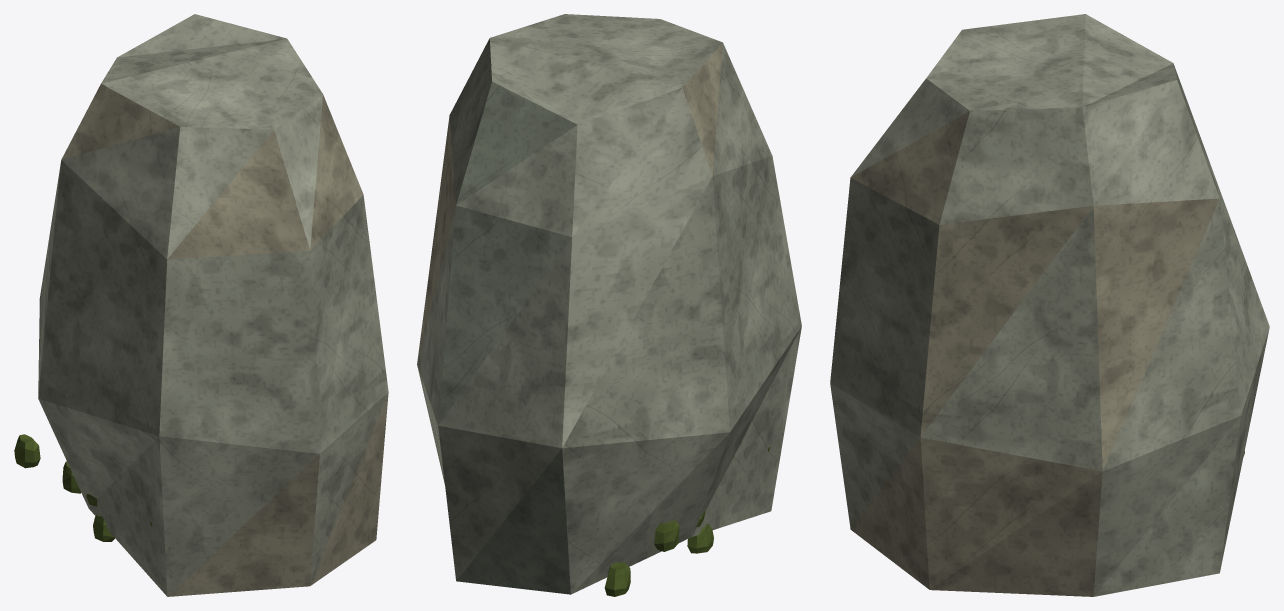
Rendered from b11_rock_1.fbx.
3 renders of one model, left to right at view 1: azimuth 30°, elevation 25°; view 2: azimuth 150°, elevation 25°; view 3: azimuth 270°, elevation 25°, orthographic. The views are drawn at different scales.
Parts seen in each view (by area): view 1: b11_rock_1; view 2: b11_rock_1; view 3: b11_rock_1.
Boxes of the visible parts, bbox=[...] form: b11_rock_1: bbox=[14, 14, 388, 596]; b11_rock_1: bbox=[417, 14, 801, 596]; b11_rock_1: bbox=[830, 14, 1269, 596].
Size of the model in its own units: 20189 by 24563 by 29983.
